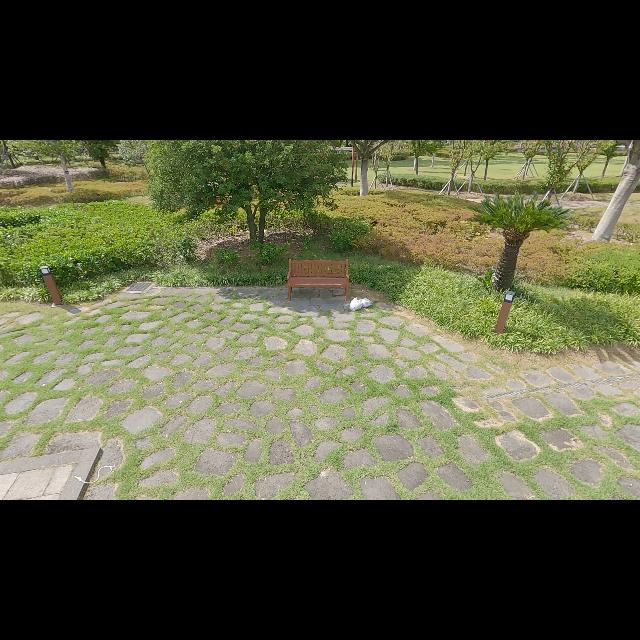trash: (348, 296, 364, 312), (361, 296, 373, 308)
